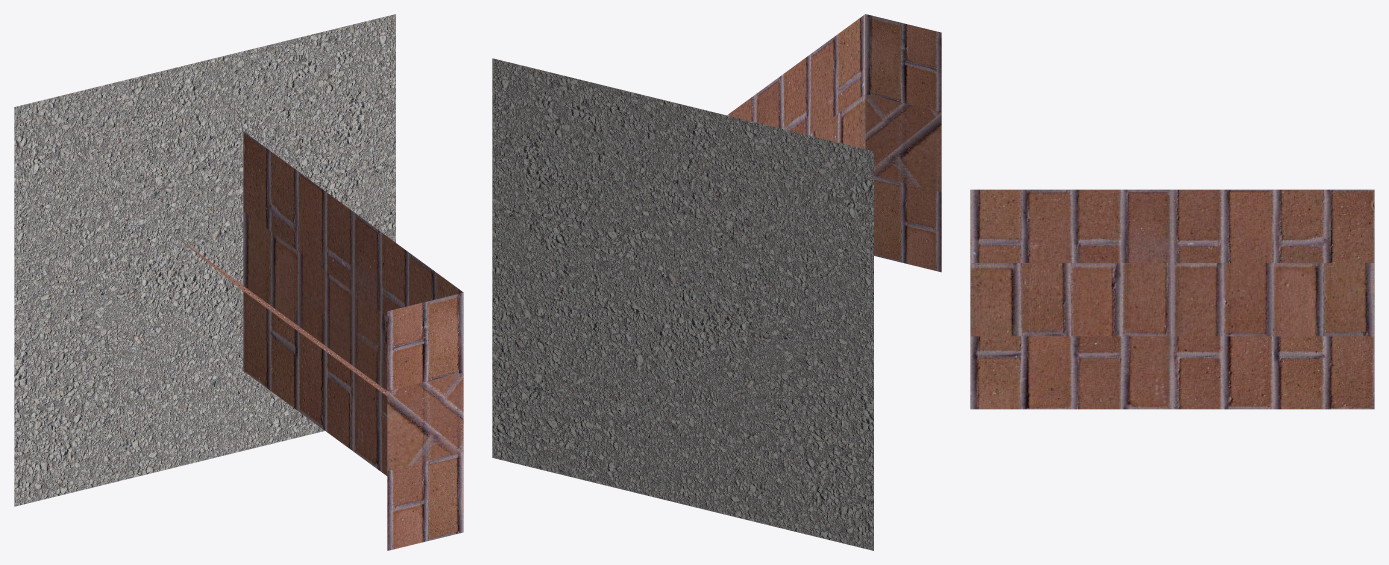
The model's file is test-tileset.obj.
3 renders of one model, left to right at view 1: azimuth 30°, elevation 25°; view 2: azimuth 150°, elevation 25°; view 3: azimuth 270°, elevation 25°, orthographic. The views are drawn at different scales.
Visible parts, largest first — view 1: floor_Plane, wall_Plane.001, filler_Plane.003, corner-outer_Plane.005, corner-inner_Plane.004; view 2: floor_Plane, wall_Plane.001, filler_Plane.003, corner-outer_Plane.005, corner-inner_Plane.004; view 3: wall_Plane.001, filler_Plane.003.
Part boxes in pixels (box(x1,y1,x2,y2)): floor_Plane: box(14, 14, 395, 506); wall_Plane.001: box(243, 131, 463, 550); filler_Plane.003: box(243, 211, 463, 470); corner-outer_Plane.005: box(170, 232, 462, 470); corner-inner_Plane.004: box(387, 373, 463, 451); floor_Plane: box(492, 58, 873, 550); wall_Plane.001: box(727, 14, 941, 272); filler_Plane.003: box(809, 94, 941, 191); corner-outer_Plane.005: box(874, 113, 941, 191); corner-inner_Plane.004: box(865, 94, 941, 161); wall_Plane.001: box(970, 189, 1374, 409); filler_Plane.003: box(970, 263, 1374, 336).
Size of the model in its own units: 1 by 1 by 1.
Materials: 2 (2 with a texture image).
